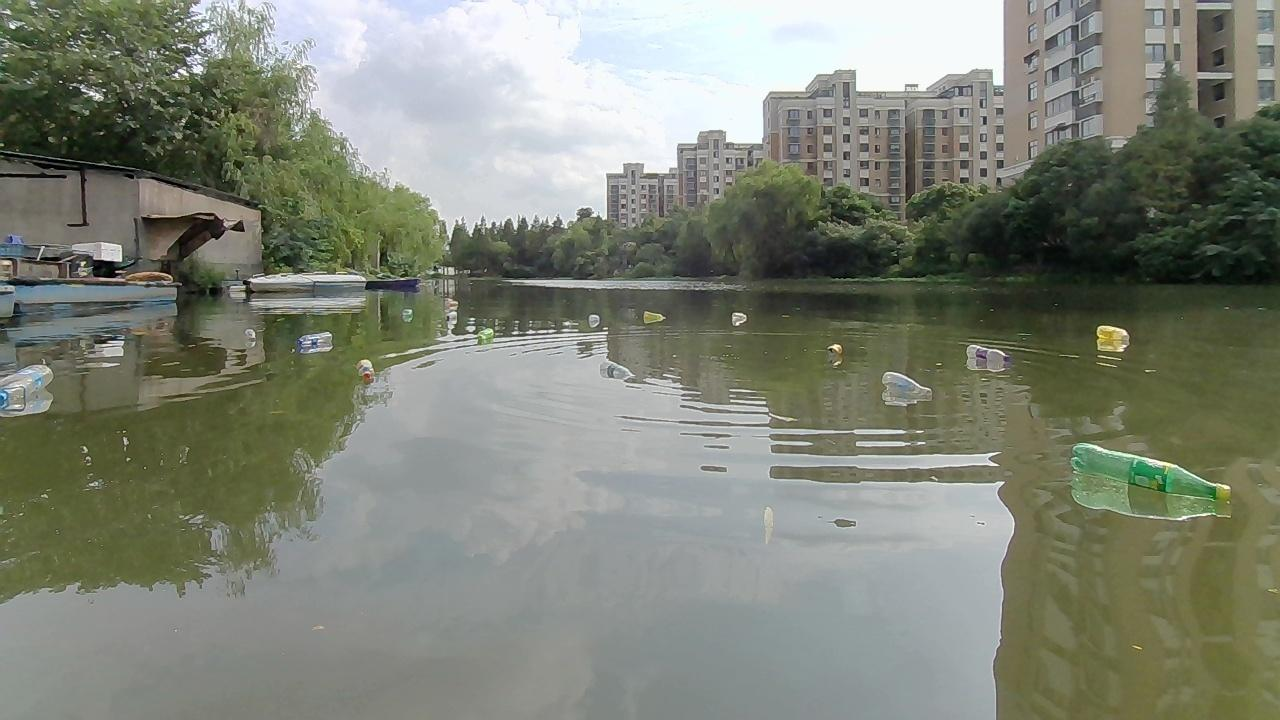bottle: (1066, 438, 1232, 505), (0, 360, 53, 417), (881, 370, 936, 401), (966, 341, 1011, 369), (83, 338, 125, 358), (1094, 321, 1130, 342), (301, 327, 330, 352), (598, 360, 635, 377), (473, 325, 498, 343), (640, 309, 666, 326), (354, 359, 373, 382), (729, 313, 748, 329), (241, 327, 256, 347), (825, 342, 841, 358), (586, 313, 601, 330), (443, 309, 455, 323), (400, 307, 411, 316)
